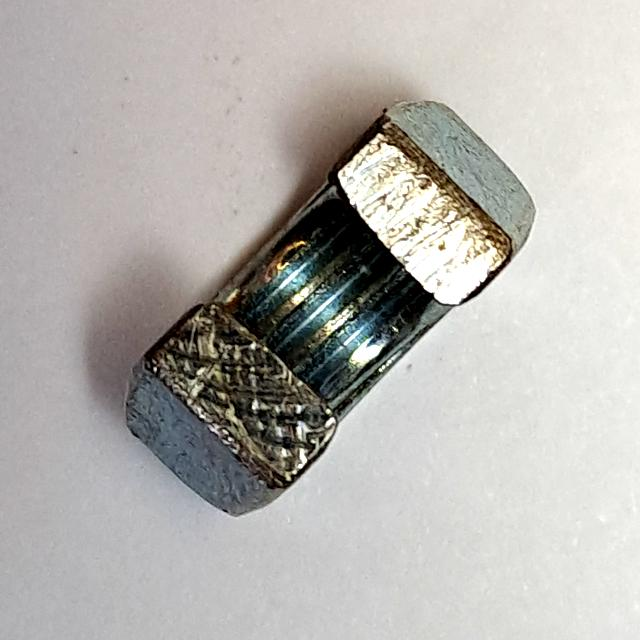Side-Fracture: (111, 87, 549, 531)
